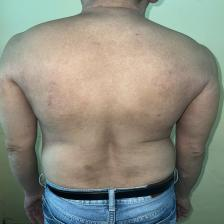DA: (36, 75, 103, 118), (142, 92, 176, 126)
